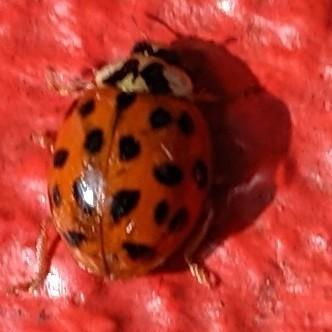ladybug: (26, 13, 221, 294)
